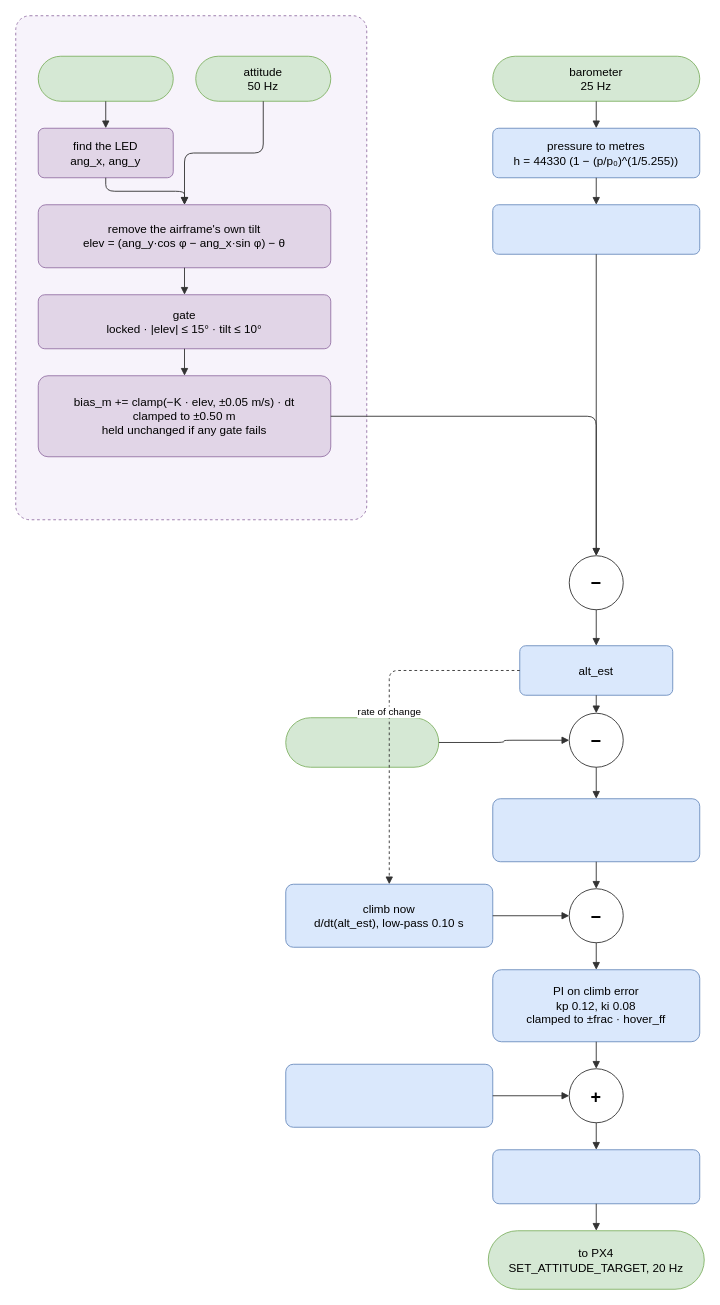
The diagram is 720 pixels wide and 1305 high, and some of its shapes have lost their labels. The box of each missing label's shape, as (x1, y1, x2, y2) in pixels:
camera 8.6 fps: (37, 55, 173, 101)
climb wanted clamp(0.6 · err, ±0.3 m/s): (492, 798, 700, 862)
hover feedforward ramp, then self-tune: (285, 1063, 493, 1127)
LED trim: (15, 15, 367, 520)
low-pass tau 0.30 s: (492, 204, 700, 254)
target_alt: (285, 717, 439, 767)
thrust clamped 0 .. 0.70: (492, 1149, 700, 1204)
